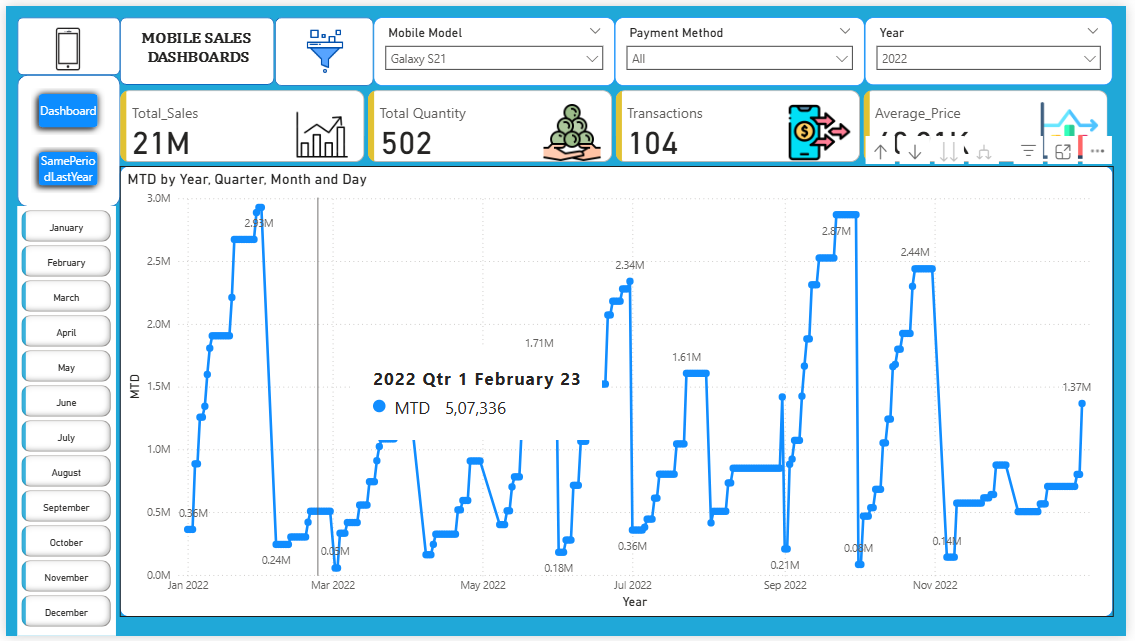

What the dashboard file says about the page in this screenshot:
{"tool":"powerbi","page":{"name":"MTD","canvas":[1280,720],"ordinal":1},"visuals":[{"type":"shape","box":[12.3,12.3,117.8,66.3],"z":0},{"type":"image","box":[33.1,19.6,76.1,58.9],"z":1000},{"type":"shape","box":[12.3,78.5,117.8,150.9],"z":2000},{"type":"cardVisual","fields":{"Data":["Mobile Sales Data.Total_Sales","Mobile Sales Data.Total Quantity","Mobile Sales Data.Transactions","Mobile Sales Data.Average_Price"]},"box":[125.2,90.8,1139.9,92],"z":3000},{"type":"slicer","fields":{"Values":["Mobile Sales Data.Mobile Model"]},"box":[419.6,12.3,276.1,78.5],"z":4000},{"type":"slicer","fields":{"Values":["Mobile Sales Data.Payment Method"]},"box":[695.7,12.3,285.9,78.5],"z":5000},{"type":"slicer","fields":{"Values":["custom calender.Date.Variation.Date Hierarchy.Year"]},"box":[981.6,12.3,283.4,77.3],"z":6000},{"type":"shape","box":[306.8,12.3,112.9,78.5],"z":7000},{"type":"image","box":[308,20.9,111.7,61.4],"z":8000},{"type":"shape","box":[130.1,12.3,176.7,77.3],"z":9000},{"type":"textbox","box":[142.3,22.1,152.1,54],"z":10000},{"type":"lineChart","fields":{"Category":["custom calender.Date.Variation.Date Hierarchy.Year","custom calender.Date.Variation.Date Hierarchy.Quarter","custom calender.Date.Variation.Date Hierarchy.Month","custom calender.Date.Variation.Date Hierarchy.Day"],"Y":["Mobile Sales Data.MTD"]},"box":[130.1,182.8,1135,515.3],"z":11000},{"type":"advancedSlicerVisual","fields":{"Values":["custom calender.Date.Variation.Date Hierarchy.Month"]},"box":[12.3,229.2,112.9,490.8],"z":12000},{"type":"pageNavigator","box":[28.2,90.8,85.9,123.9],"z":13000}]}

Visuals, with their boxes in screenshot pixels (x1, y1, x2, y2):
shape: [14,14,117,72]
image: [32,20,98,72]
shape: [14,72,117,204]
cardVisual - Mobile Sales Data.Total_Sales x Mobile Sales Data.Total Quantity: [112,82,1109,163]
slicer - Mobile Sales Data.Mobile Model: [370,14,611,82]
slicer - Mobile Sales Data.Payment Method: [611,14,861,82]
slicer - custom calender.Date.Variation.Date Hierarchy.Year: [861,14,1109,81]
shape: [271,14,370,82]
image: [272,21,370,75]
shape: [117,14,271,81]
textbox: [127,22,260,70]
lineChart - custom calender.Date.Variation.Date Hierarchy.Year x custom calender.Date.Variation.Date Hierarchy.Quarter: [117,163,1109,613]
advancedSlicerVisual - custom calender.Date.Variation.Date Hierarchy.Month: [14,203,112,633]
pageNavigator: [28,82,103,191]
